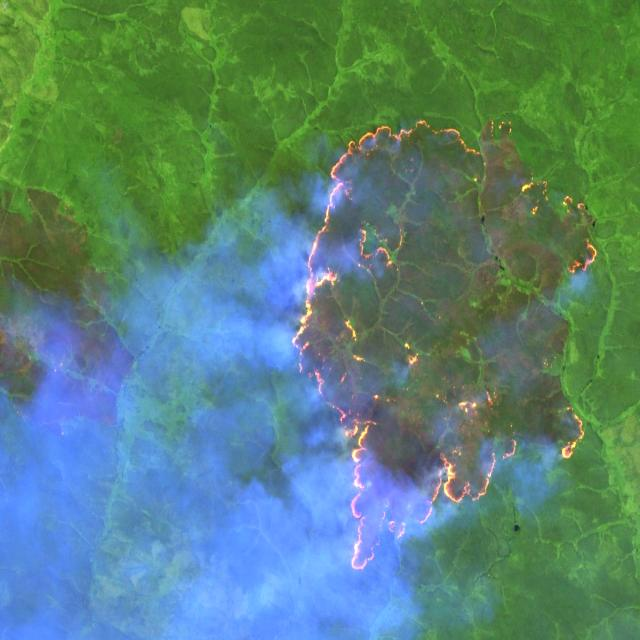fire: (279, 108, 603, 583)
